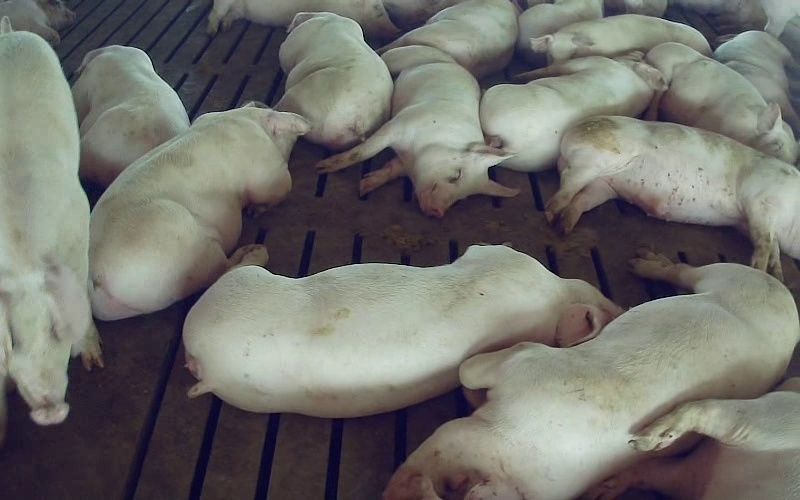pig: (384, 251, 799, 499), (183, 245, 620, 417), (90, 102, 309, 319), (546, 116, 799, 278), (317, 45, 517, 217), (588, 378, 799, 499), (480, 51, 666, 171), (646, 43, 799, 163), (72, 45, 189, 186), (275, 12, 392, 150), (382, 0, 517, 78), (530, 14, 711, 63), (714, 31, 799, 130), (207, 0, 399, 39)
